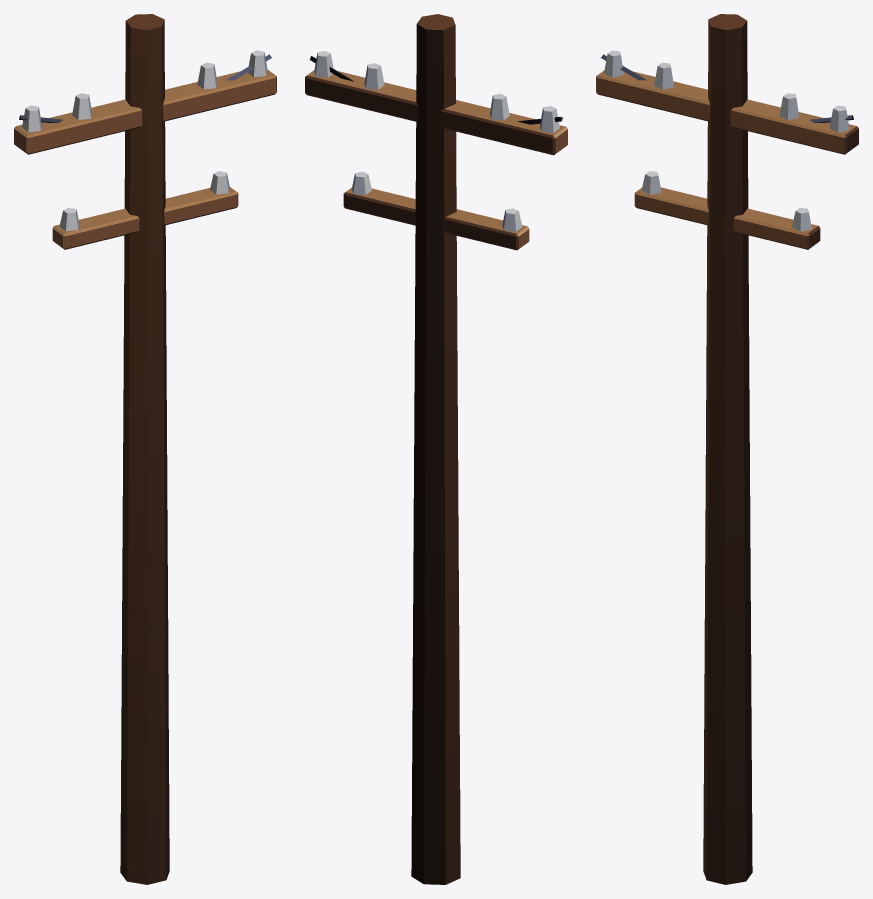
Rendered from telephone_pole.glb.
3 views of the same model, side by side, from view 1: azimuth 30°, elevation 25°; view 2: azimuth 150°, elevation 25°; view 3: azimuth 330°, elevation 25° (orthographic).
Visible parts, largest first — view 1: telephone_pole; view 2: telephone_pole; view 3: telephone_pole.
Boxes of the visible parts, x1,y1,x2,y2 form: telephone_pole: (14, 14, 276, 884); telephone_pole: (305, 14, 567, 884); telephone_pole: (596, 14, 858, 884).
Bounding box in the file's own units: 0.8044 × 2.6 × 0.1331.
